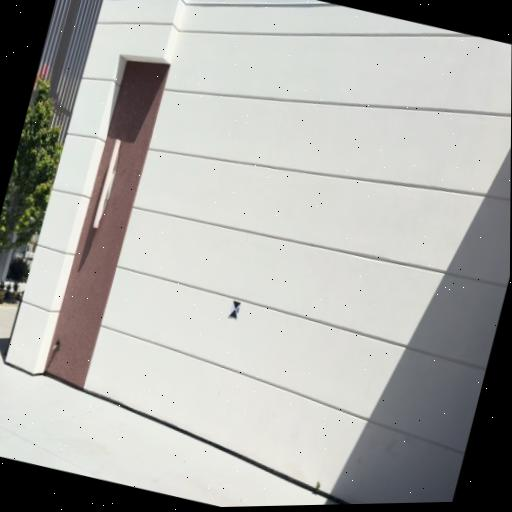target0: (228, 300, 241, 319)
